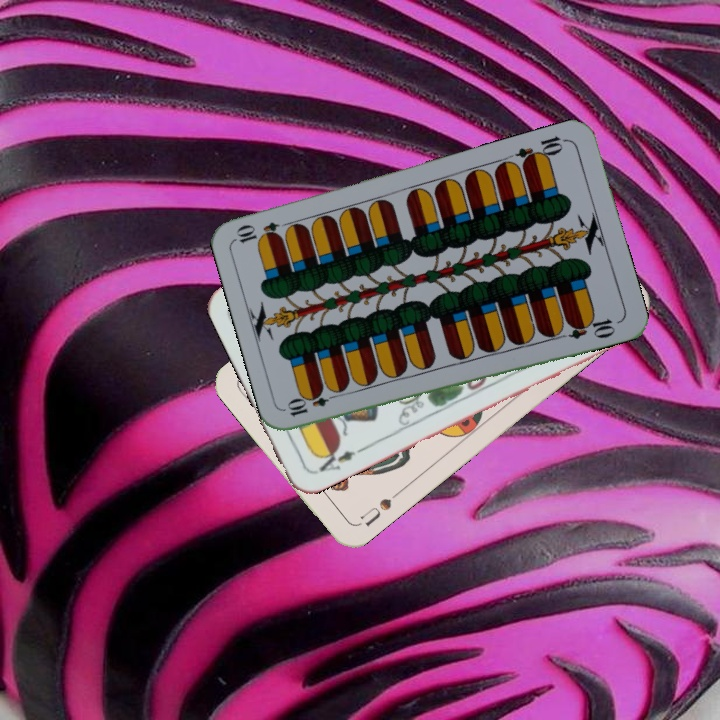E10: (512, 132, 570, 169), (283, 388, 342, 419)
EA: (311, 443, 366, 477)
SU: (356, 486, 403, 530)
